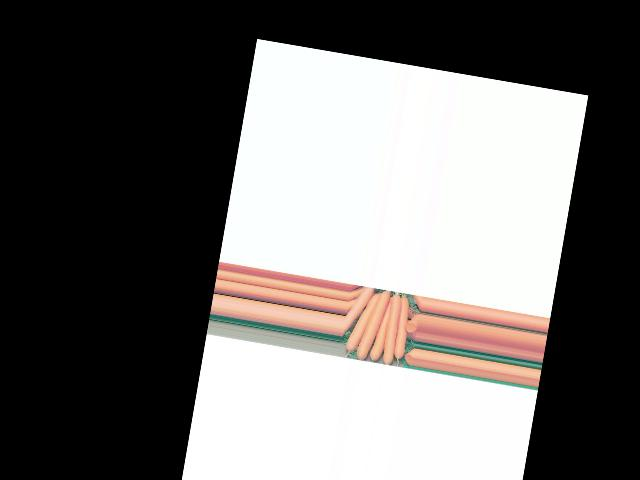carrot: (357, 288, 391, 365)
